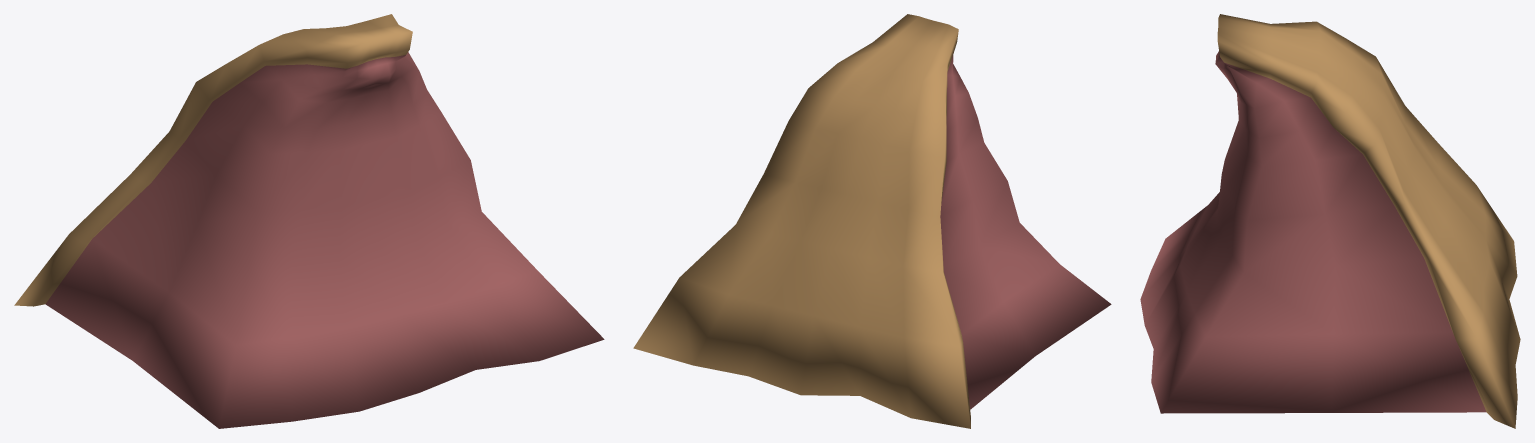
File: StoneStructure_5.fbx
The picture shows the model from 3 angles, left to right: view 1: azimuth 30°, elevation 25°; view 2: azimuth 150°, elevation 25°; view 3: azimuth 270°, elevation 25°; orthographic projection. The views are drawn at different scales.
Visible parts, largest first — view 1: Cube; view 2: Cube; view 3: Cube.
Boxes of the visible parts, bbox=[...] form: Cube: bbox=[14, 14, 604, 428]; Cube: bbox=[633, 14, 1111, 428]; Cube: bbox=[1140, 14, 1520, 428].
Bounding box in the file's own units: 734 × 577 × 633.
